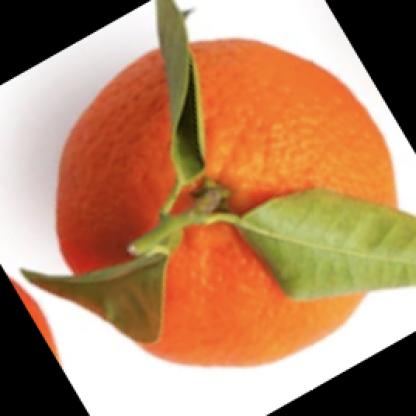fresh: (53, 34, 398, 366)
